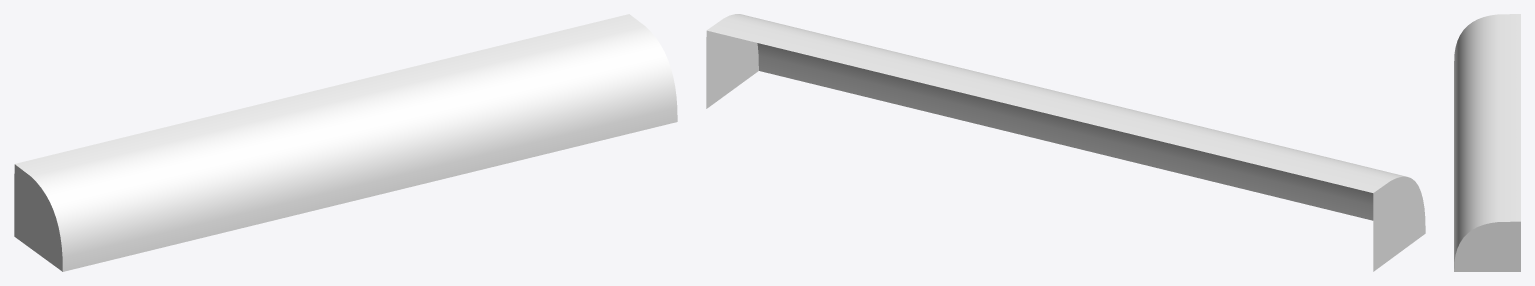
The model's file is umbrella_4.glb.
3 renders of one model, left to right at view 1: azimuth 30°, elevation 25°; view 2: azimuth 150°, elevation 25°; view 3: azimuth 270°, elevation 25°, orthographic. The views are drawn at different scales.
Visible parts, largest first — view 1: umbrella_4; view 2: umbrella_4; view 3: umbrella_4.
Boxes of the visible parts, <box> form: umbrella_4: <box>14,14,677,271</box>; umbrella_4: <box>706,14,1425,271</box>; umbrella_4: <box>1454,14,1520,271</box>.
Size of the model in its own units: 6.01 by 0.678 by 0.8178.
Materials: 1 (1 with a texture image).
